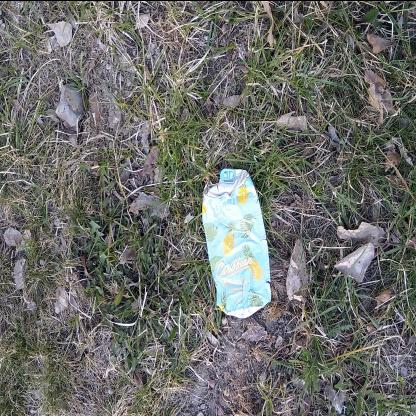metal: (202, 166, 272, 320)
